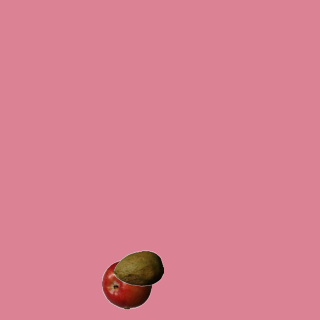Apple Braeburn: (101, 259, 151, 309)
Papaya: (113, 243, 163, 293)
